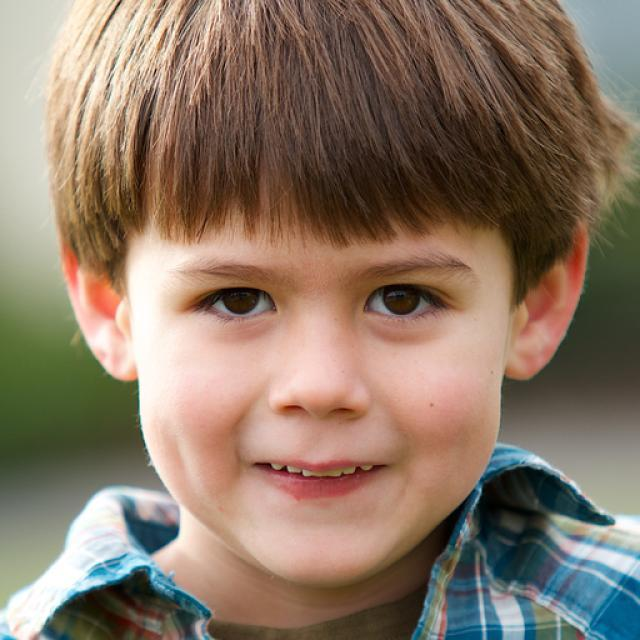happy: (132, 89, 508, 586)
